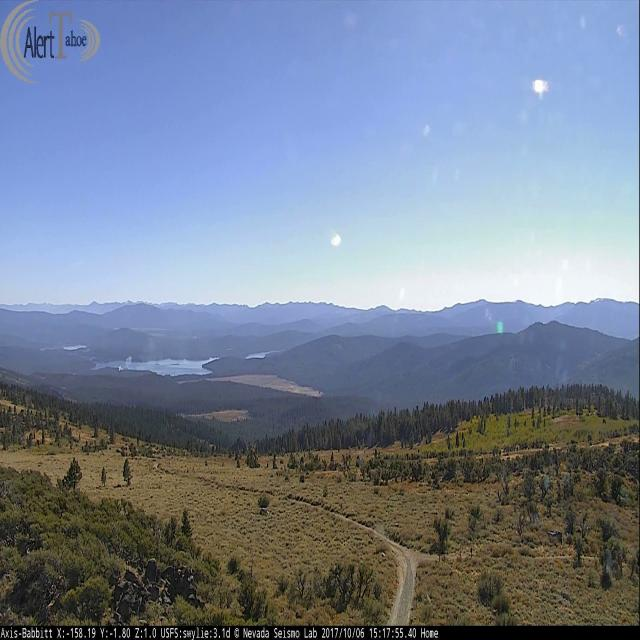smoke: (118, 326, 160, 372)
